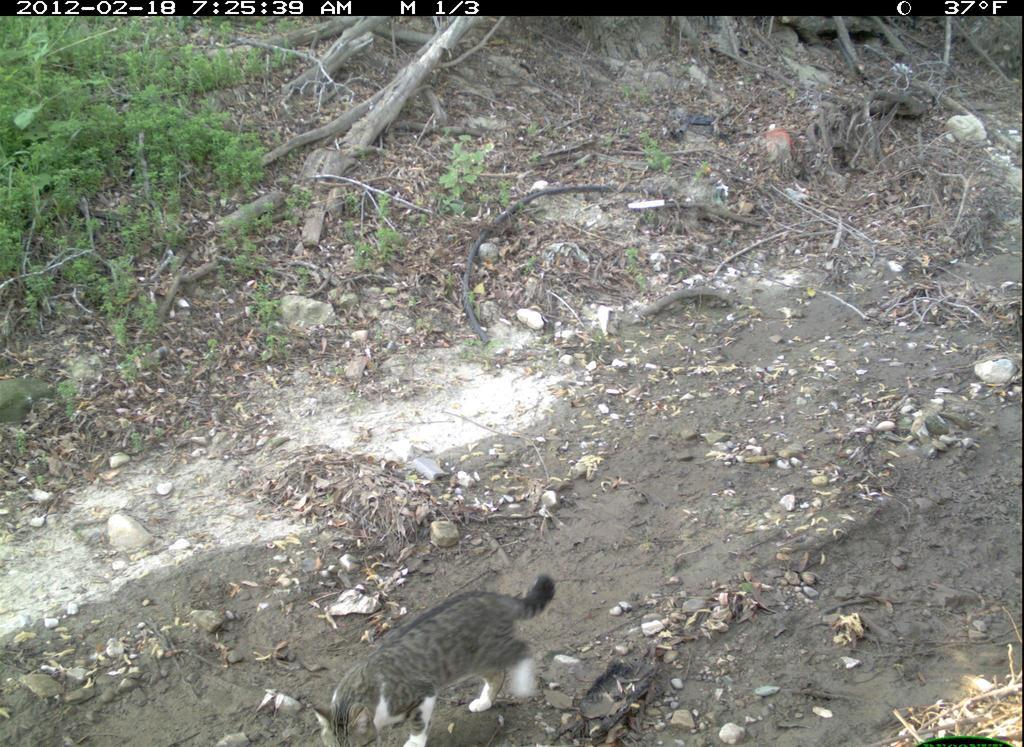cat: (297, 564, 568, 747)
